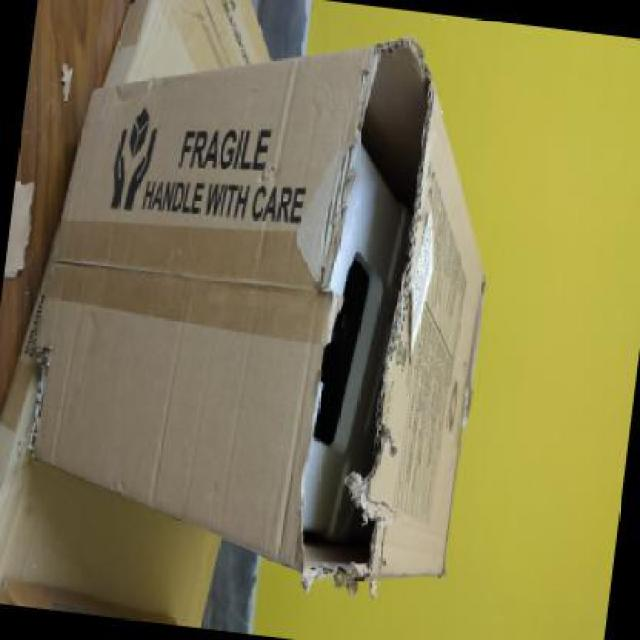leakage: (282, 38, 436, 586)
